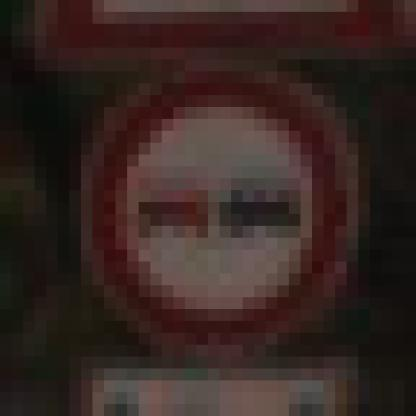No Overtaking: (59, 72, 359, 358)
